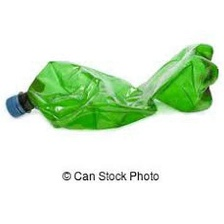bottle: (3, 34, 221, 135)
